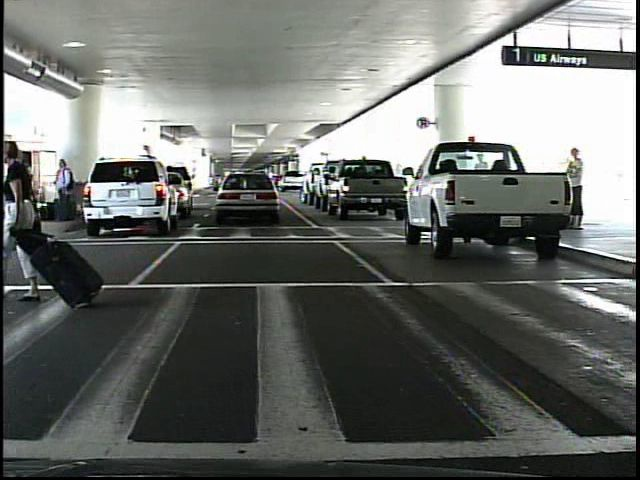person: (1, 141, 45, 290), (554, 148, 590, 230), (12, 152, 34, 226), (51, 157, 74, 223)
